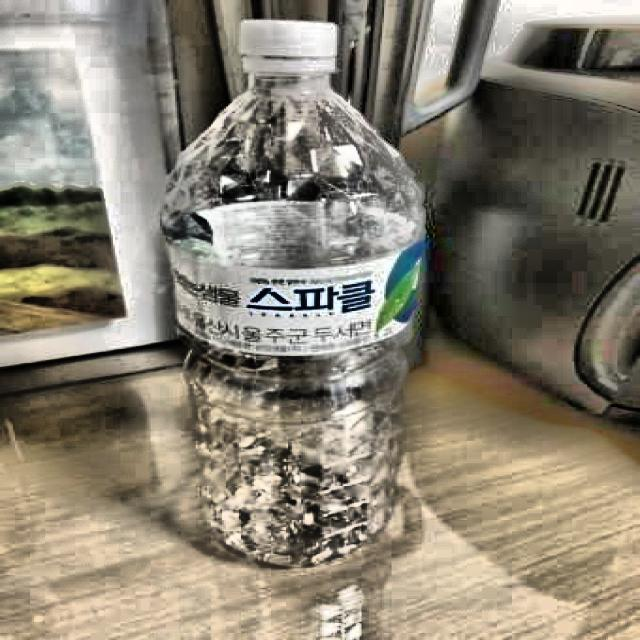plastic bottle: (162, 20, 424, 567)
